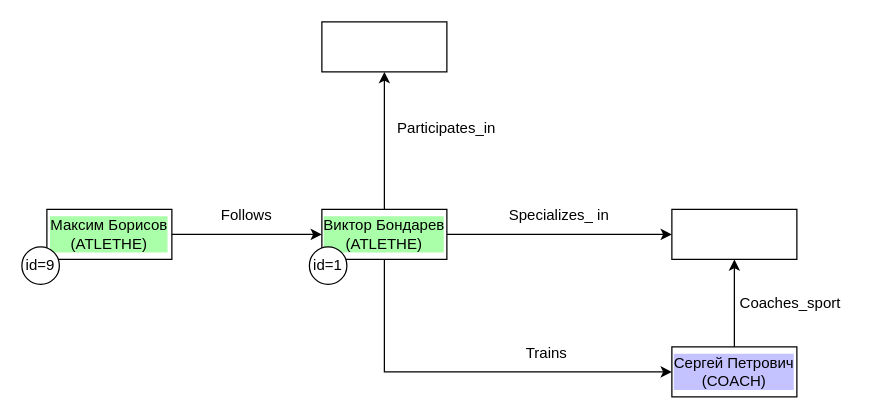
Some shapes in this 869 by 419 pixel diagram are drawn without their labels. The shapes that lost their labels are listed below. From the top down, each one's centre as x and y in pixels, then its label:
At point (384, 46): "Зимний Кубок (COMPETITION)".
At point (734, 233): "Легкая атлетика (SPORT)".
